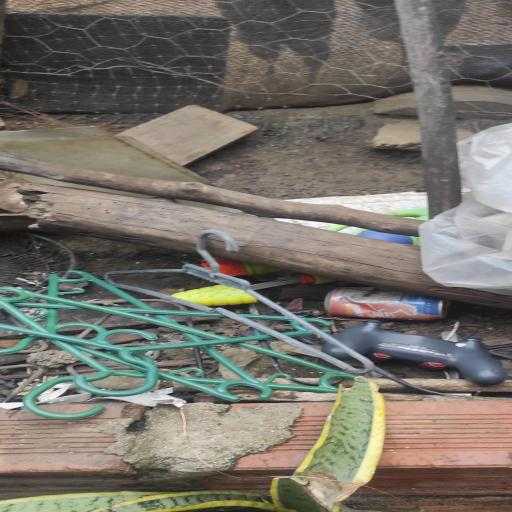ControlPlay4: (333, 320, 506, 386), (321, 342, 353, 360)
